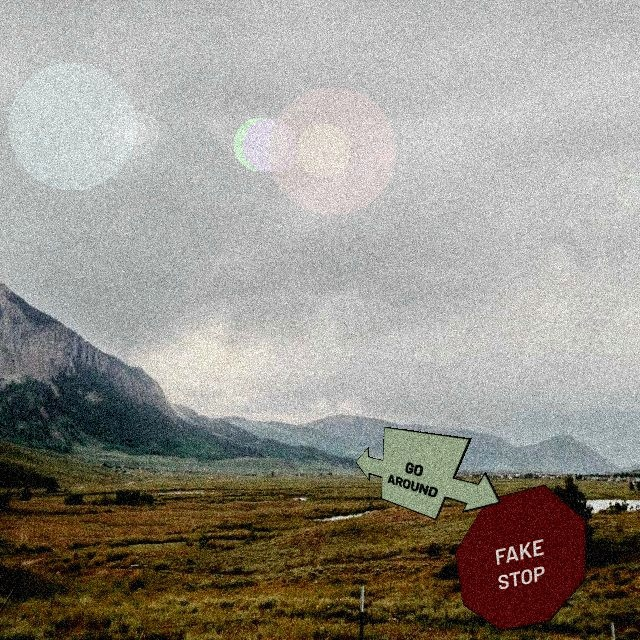FAKE_STOP: (454, 484, 587, 631)
GO_AROUND: (355, 426, 501, 520)
